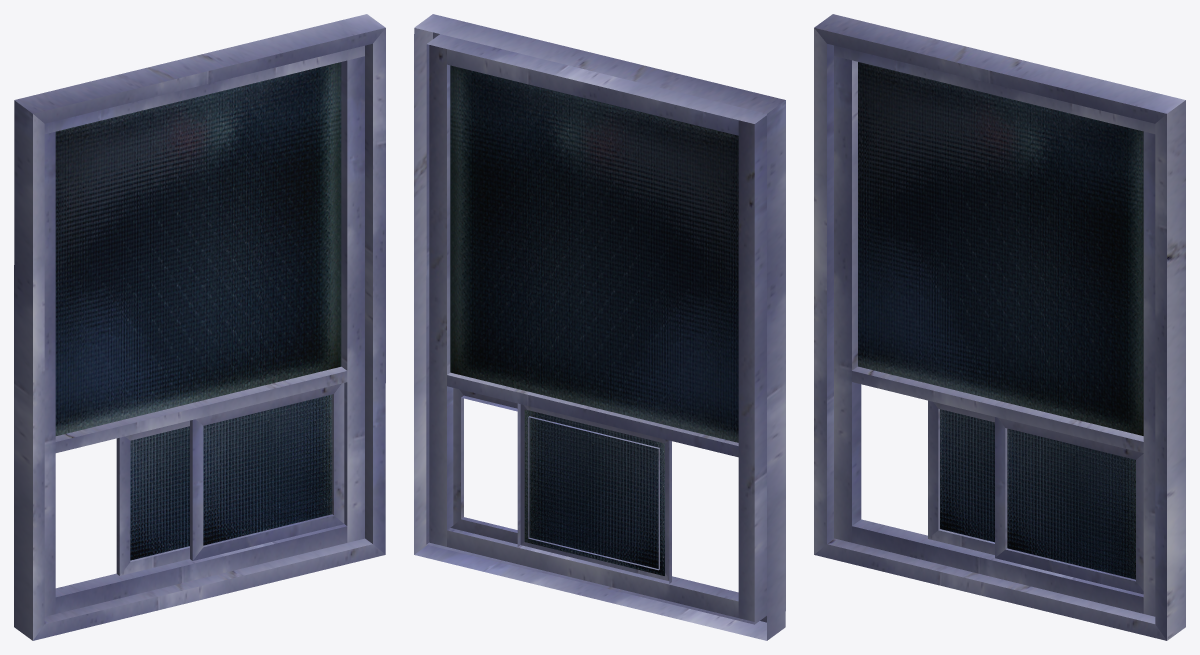
The model's file is Window_0.8m_002.fbx.
3 renders of one model, left to right at view 1: azimuth 30°, elevation 25°; view 2: azimuth 150°, elevation 25°; view 3: azimuth 330°, elevation 25°, orthographic.
Visible parts, largest first — view 1: Window_0.8m_002; view 2: Window_0.8m_002; view 3: Window_0.8m_002.
Part boxes in pixels (box(x1,y1,x2,y2)): Window_0.8m_002: box(14, 14, 385, 640); Window_0.8m_002: box(414, 14, 785, 640); Window_0.8m_002: box(814, 14, 1185, 640).
Size of the model in its own units: 56.05 by 80 by 5.2.
Materials: 1 (1 with a texture image).
